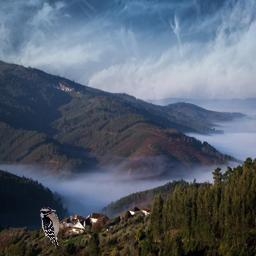Woodpecker: (40, 207, 65, 250)
